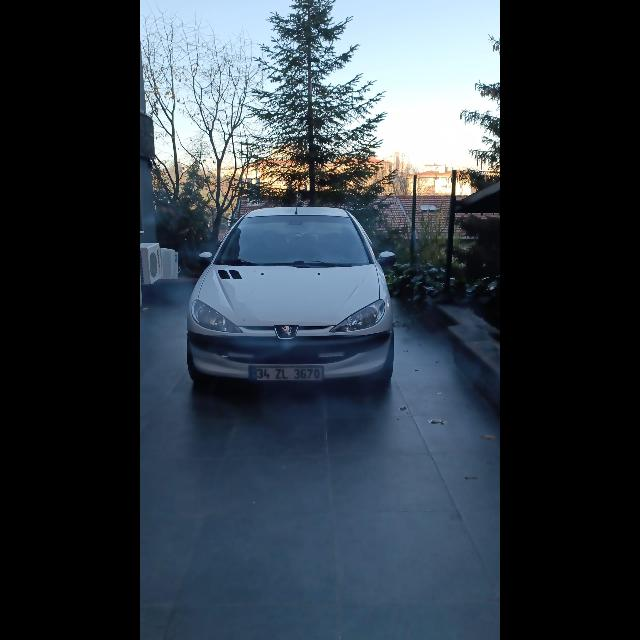Plaka: (248, 367, 324, 383)
